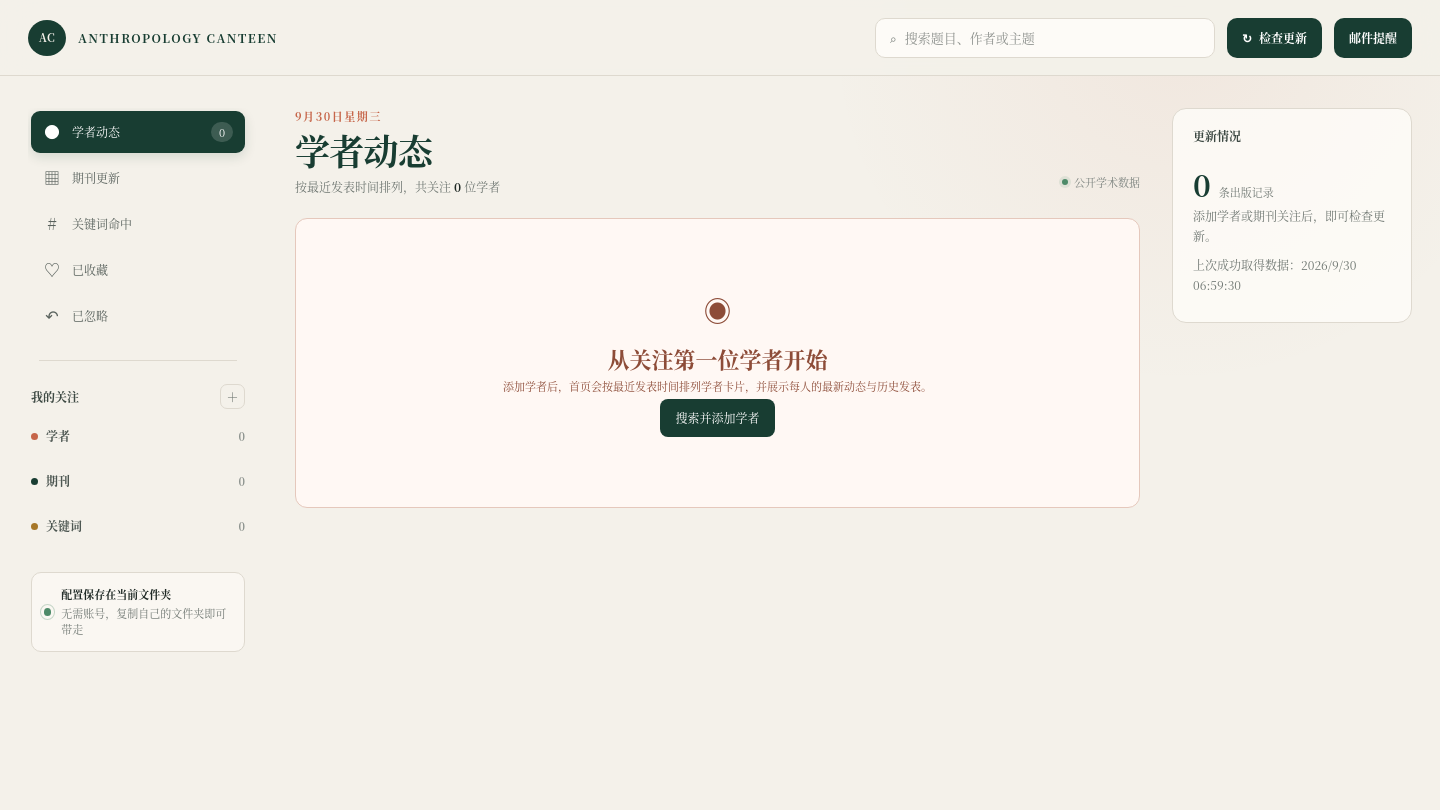
Test: Slice C reminder state, accessibility, and narrow layout › scheduler permission failure stays visibly disabled and explains the one-time helper prompt
Click the button "邮件提醒". click: [1373, 38]
box: [1334, 18, 1412, 58]
(page scrolled)
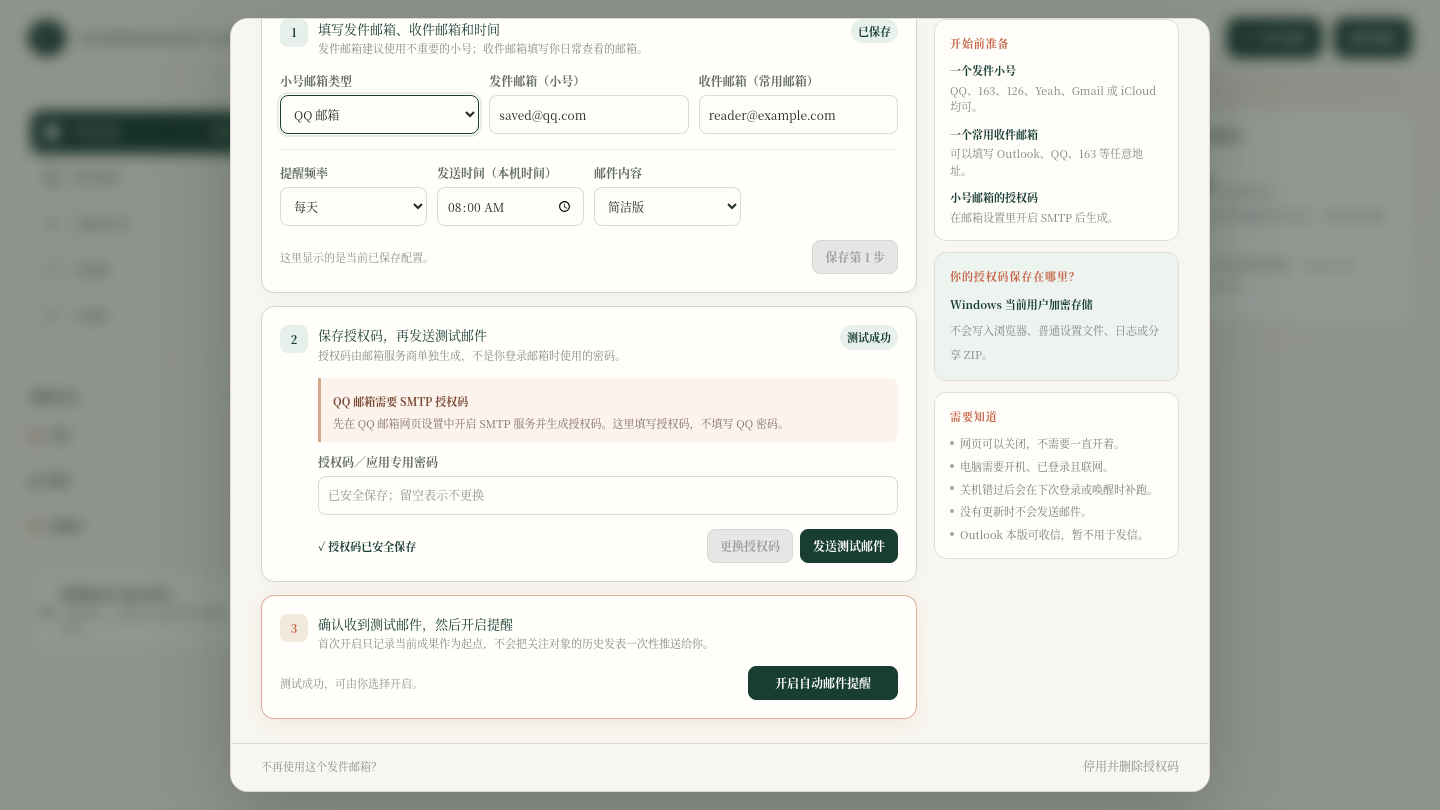
Click the button "开启自动邮件提醒". click: [823, 684]
box: [748, 666, 898, 700]
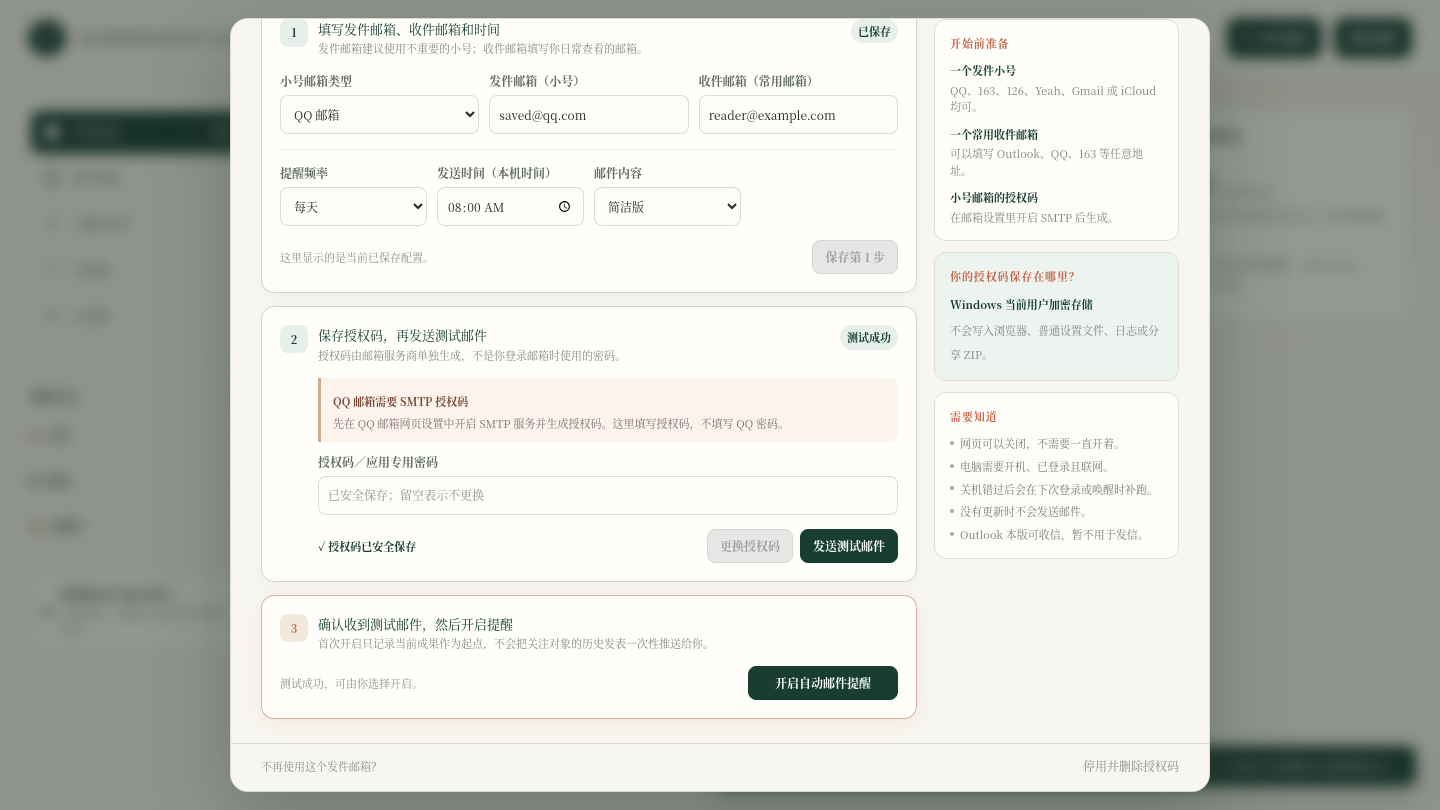
Check: the message shows "确认一次 Windows 权限提示", box [730, 758, 1400, 774]
Check: the message shows "日常提醒仍以普通权限运行", box [730, 758, 1400, 774]
